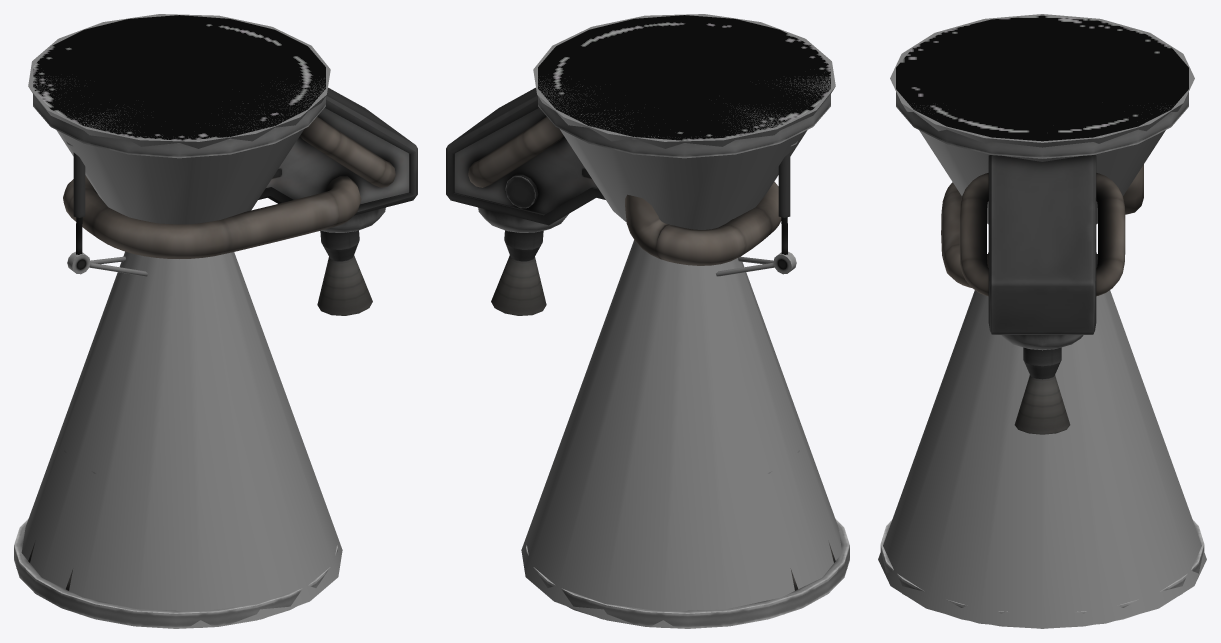
The model's file is Vega_Engine.dae.
The picture shows the model from 3 angles, left to right: view 1: azimuth 30°, elevation 25°; view 2: azimuth 150°, elevation 25°; view 3: azimuth 270°, elevation 25°; orthographic projection.
Visible parts, largest first — view 1: pCylinder154, polySurface31, polySurface32, pCylinder153, VegaEngine_Merged_GimbalTransform_pCylinder104, pCylinder103, UpperGimbalRod; view 2: pCylinder154, polySurface31, polySurface32, pCylinder153, VegaEngine_Merged_GimbalTransform_pCylinder104, pCylinder103, UpperGimbalRod; view 3: pCylinder154, polySurface32, polySurface31, pCylinder153, pCylinder103, VegaEngine_Merged_GimbalTransform_pCylinder104.
Part boxes in pixels (left/top/right/bottom): pCylinder154: left=16, top=251, right=342, bottom=627; polySurface31: left=33, top=15, right=325, bottom=140; polySurface32: left=33, top=87, right=417, bottom=258; pCylinder153: left=28, top=14, right=330, bottom=224; VegaEngine_Merged_GimbalTransform_pCylinder104: left=14, top=251, right=337, bottom=628; pCylinder103: left=317, top=230, right=372, bottom=315; UpperGimbalRod: left=73, top=152, right=85, bottom=217; pCylinder154: left=521, top=240, right=847, bottom=627; polySurface31: left=538, top=15, right=830, bottom=140; polySurface32: left=446, top=87, right=830, bottom=265; pCylinder153: left=533, top=14, right=835, bottom=229; VegaEngine_Merged_GimbalTransform_pCylinder104: left=526, top=251, right=849, bottom=628; pCylinder103: left=491, top=230, right=546, bottom=315; UpperGimbalRod: left=778, top=152, right=790, bottom=217; pCylinder154: left=878, top=252, right=1206, bottom=628; polySurface32: left=896, top=92, right=1188, bottom=350; polySurface31: left=896, top=15, right=1188, bottom=141; pCylinder153: left=890, top=14, right=1194, bottom=224; pCylinder103: left=1014, top=347, right=1070, bottom=434; VegaEngine_Merged_GimbalTransform_pCylinder104: left=880, top=520, right=1204, bottom=628.
Bounding box in the file's own units: 0.9903 × 1.28 × 0.7909.
